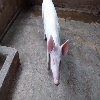heo: (44, 33, 71, 88)
